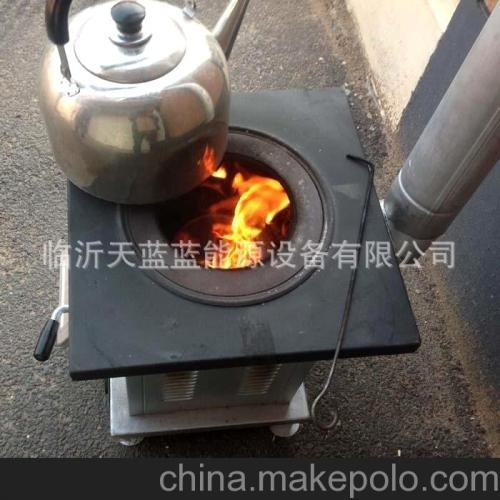fire: (195, 148, 289, 271)
